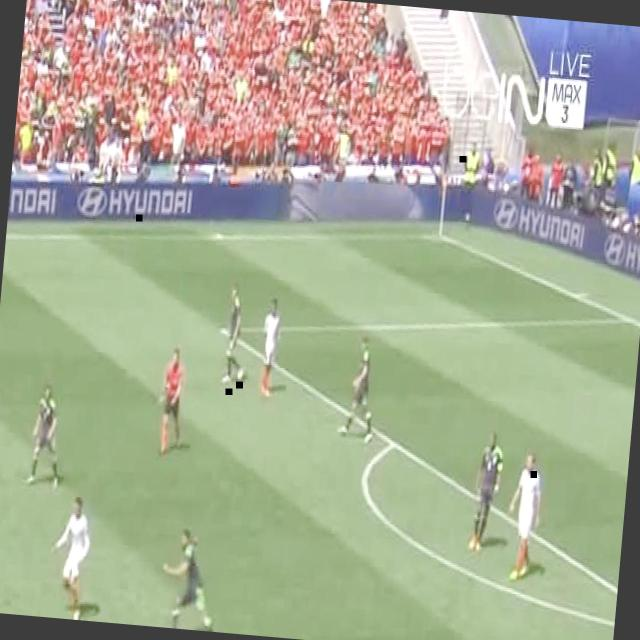player-white: (157, 525, 227, 632), (46, 494, 95, 620), (503, 451, 545, 580), (336, 336, 381, 444), (467, 430, 505, 552), (27, 386, 67, 488), (157, 348, 190, 456), (221, 284, 251, 384), (257, 296, 283, 398)
